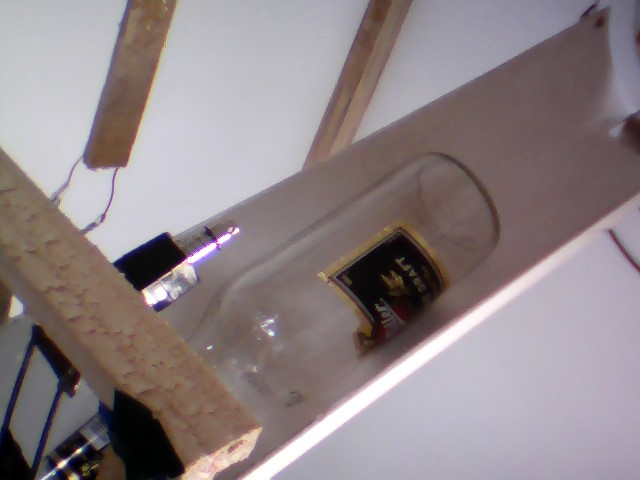vidrio: (186, 147, 513, 421)
